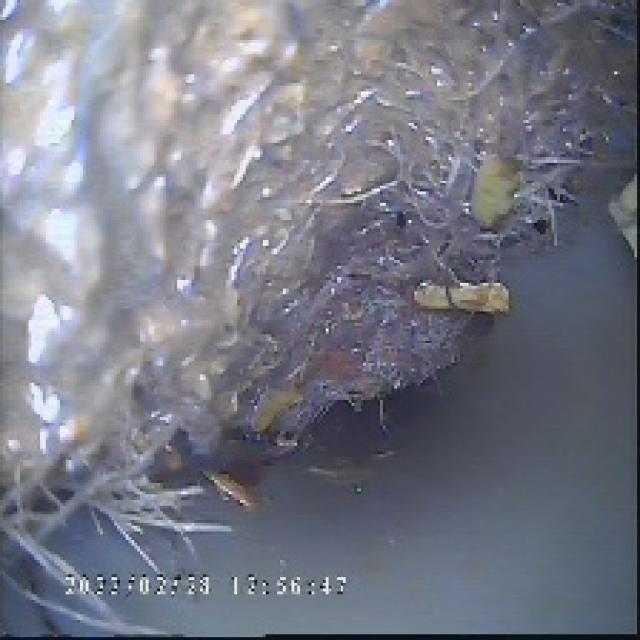sluge accumulation: (49, 28, 606, 526)
